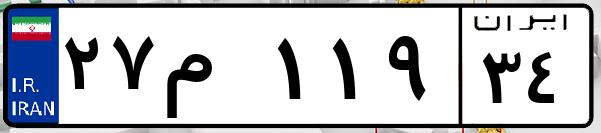1: (270, 28, 330, 110), (330, 28, 385, 110)
2: (57, 26, 110, 100)
3: (475, 38, 525, 113)
4: (525, 38, 570, 115)
7: (110, 28, 158, 98)
9: (385, 28, 445, 110)
م: (158, 20, 270, 120)
